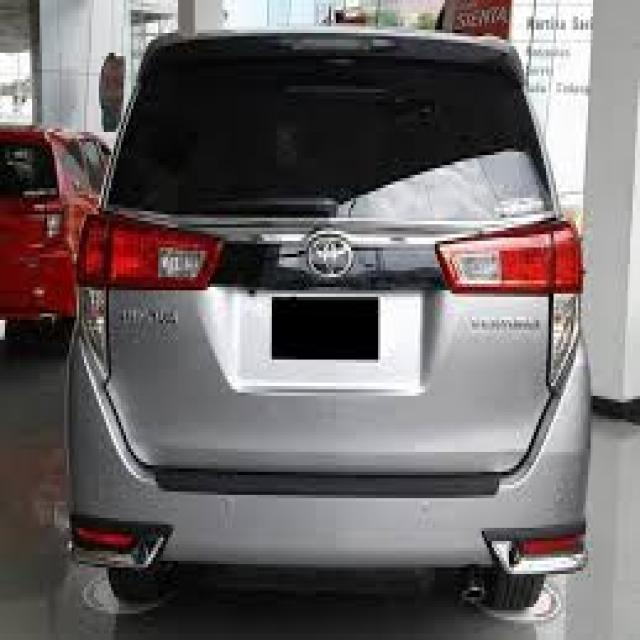light_vehicle: (65, 28, 592, 611)
